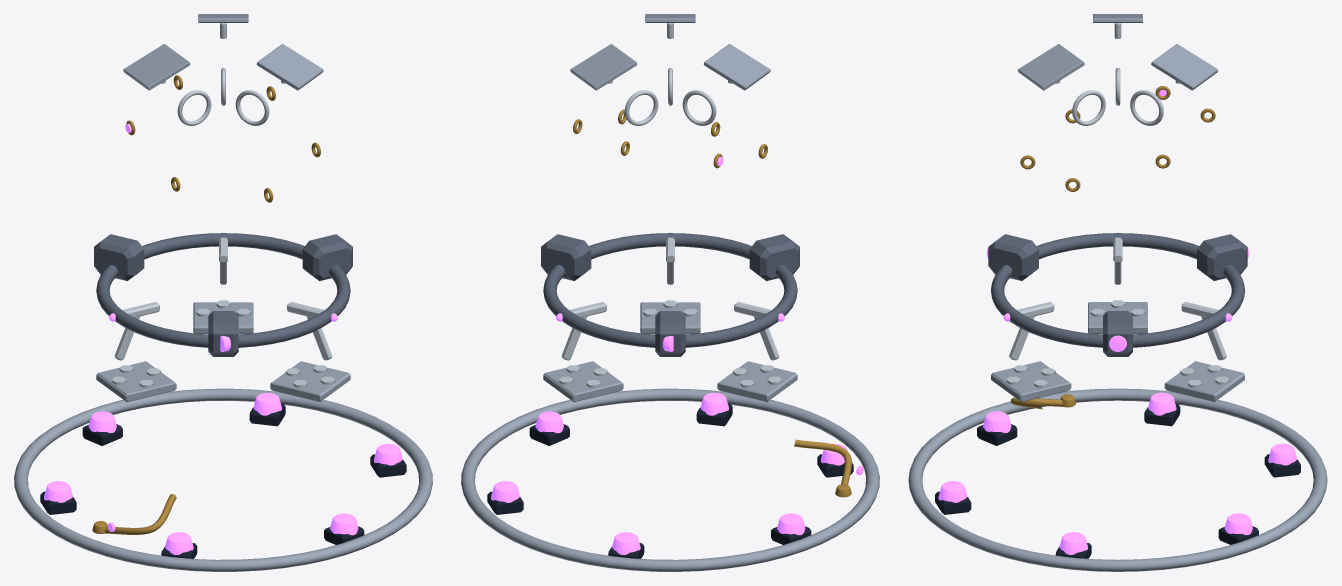
The model's file is tower_singularity_range_s9.glb.
3 views of the same model, side by side, from view 1: azimuth 30°, elevation 25°; view 2: azimuth 150°, elevation 25°; view 3: azimuth 270°, elevation 25° (orthographic).
Visible parts, largest first — view 1: singularity_projector_ring, singularity_collar_ring, singularity_collar_pod0, singularity_collar_pod1, singularity_foot_plate0, singularity_foot_plate1, singularity_reflector0, singularity_reflector1, singularity_collar_pod2, singularity_foot_plate2, singularity_projector_conduit; view 2: singularity_projector_ring, singularity_collar_ring, singularity_collar_pod1, singularity_collar_pod2, singularity_foot_plate0, singularity_foot_plate2, singularity_reflector0, singularity_reflector2, singularity_collar_pod0, singularity_foot_plate1, singularity_projector_conduit; view 3: singularity_projector_ring, singularity_collar_ring, singularity_collar_pod0, singularity_collar_pod2, singularity_foot_plate1, singularity_foot_plate2, singularity_reflector1, singularity_reflector2, singularity_collar_pod1, singularity_foot_plate0.
Part boxes in pixels (<box>): singularity_projector_ring: <box>14,388,432,571</box>; singularity_collar_ring: <box>96,233,350,347</box>; singularity_collar_pod0: <box>94,234,144,280</box>; singularity_collar_pod1: <box>302,234,352,280</box>; singularity_foot_plate0: <box>96,361,176,401</box>; singularity_foot_plate1: <box>270,361,350,401</box>; singularity_reflector0: <box>123,44,190,90</box>; singularity_reflector1: <box>256,44,323,90</box>; singularity_collar_pod2: <box>208,311,238,356</box>; singularity_foot_plate2: <box>193,302,253,333</box>; singularity_projector_conduit: <box>104,494,176,534</box>; singularity_projector_ring: <box>461,388,879,571</box>; singularity_collar_ring: <box>543,233,797,347</box>; singularity_collar_pod1: <box>541,234,591,280</box>; singularity_collar_pod2: <box>749,234,799,280</box>; singularity_foot_plate0: <box>717,361,797,401</box>; singularity_foot_plate2: <box>543,361,623,401</box>; singularity_reflector0: <box>703,44,770,90</box>; singularity_reflector2: <box>570,44,637,90</box>; singularity_collar_pod0: <box>655,311,685,356</box>; singularity_foot_plate1: <box>640,302,700,333</box>; singularity_projector_conduit: <box>794,439,851,484</box>; singularity_projector_ring: <box>908,388,1327,571</box>; singularity_collar_ring: <box>990,233,1245,347</box>; singularity_collar_pod0: <box>1197,234,1247,280</box>; singularity_collar_pod2: <box>988,234,1038,280</box>; singularity_foot_plate1: <box>991,361,1071,401</box>; singularity_foot_plate2: <box>1164,361,1244,401</box>; singularity_reflector1: <box>1017,44,1084,90</box>; singularity_reflector2: <box>1151,44,1218,90</box>; singularity_collar_pod1: <box>1103,311,1132,356</box>; singularity_foot_plate0: <box>1088,302,1147,333</box>.
Bounding box in the file's own units: 2.5 × 2.95 × 2.5.
